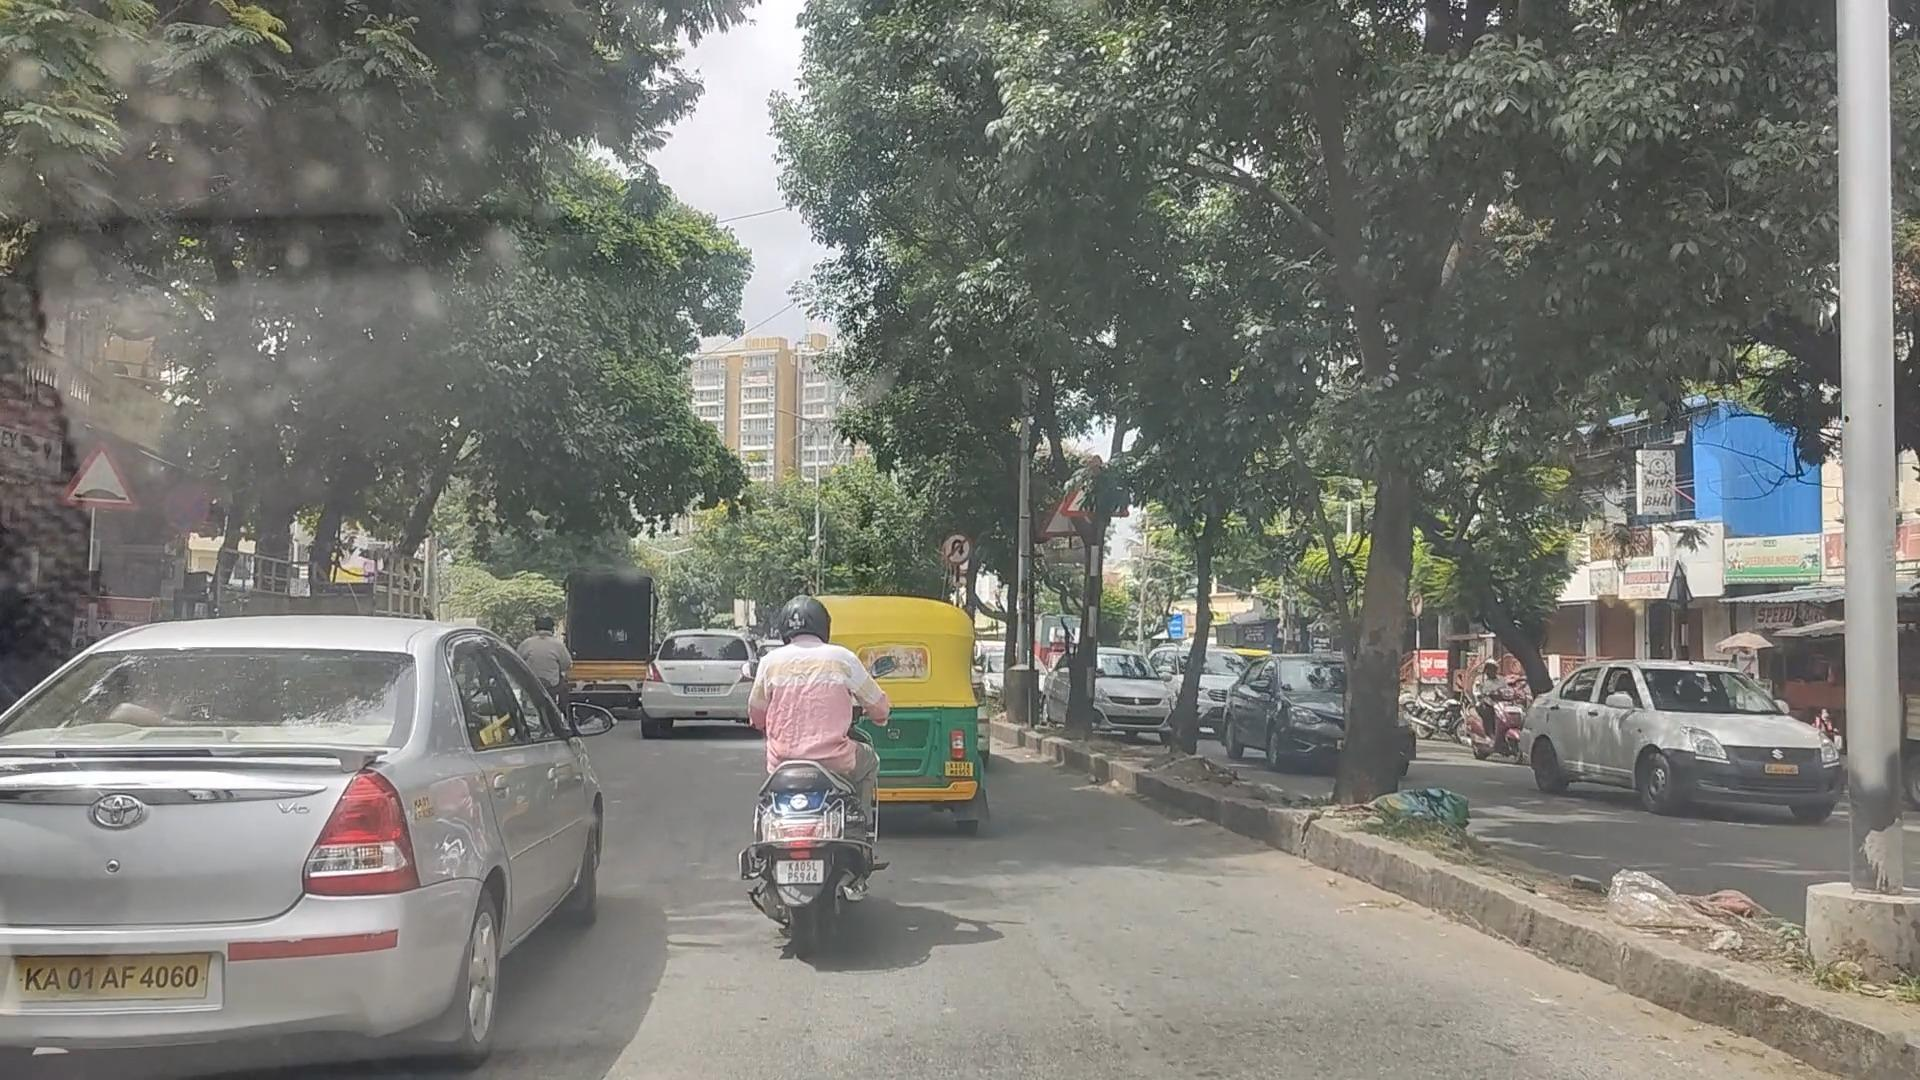LMV: (42, 607, 620, 1047), (757, 583, 866, 960), (832, 588, 994, 819)
